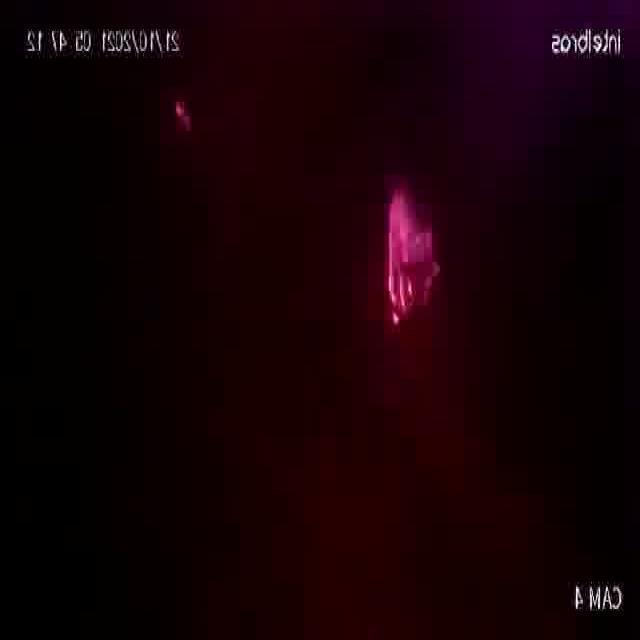Fire: (342, 119, 482, 371)
